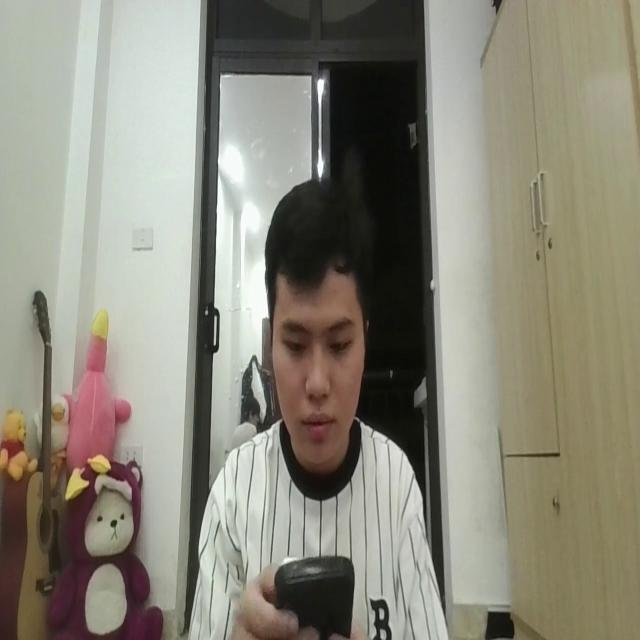phone: (271, 541, 355, 640)
student: (184, 172, 450, 640)
